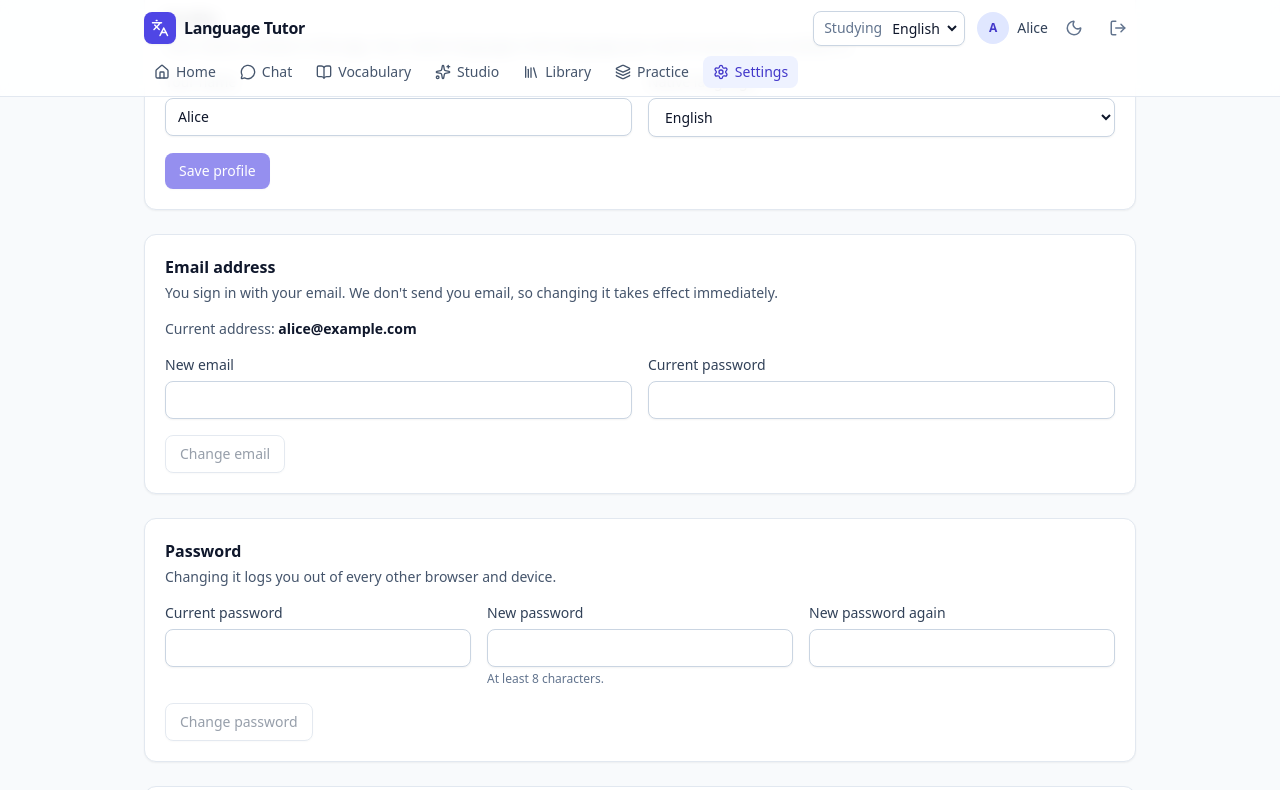
Scenario: settings: profile and email › changes the email and shows the new address
(page scrolled)
Type "new@example.com" into the field labelled "New email".
click(398, 400); type("new@example.com")  # box [165,381,632,419]
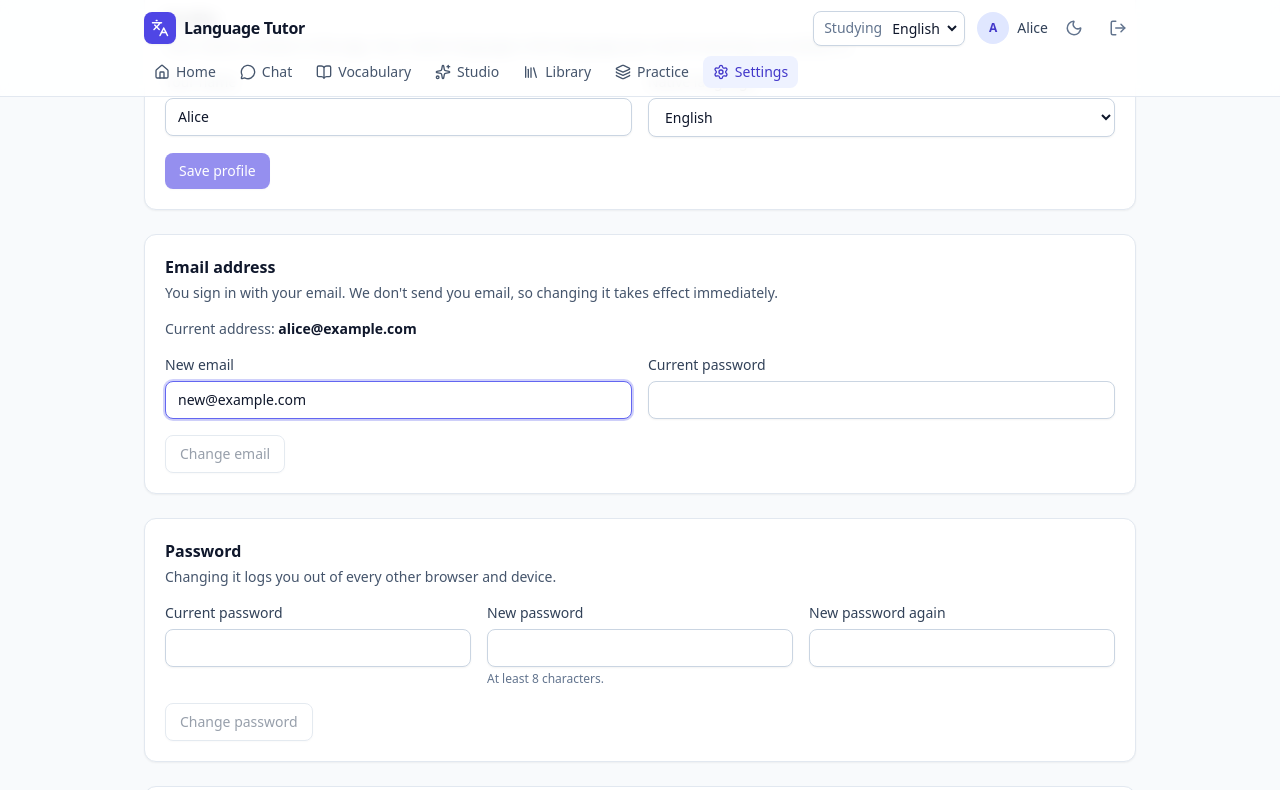
Type "password123" into the 1st password field labelled "Current password".
click(882, 400); type("password123")  # box [648,381,1115,419]
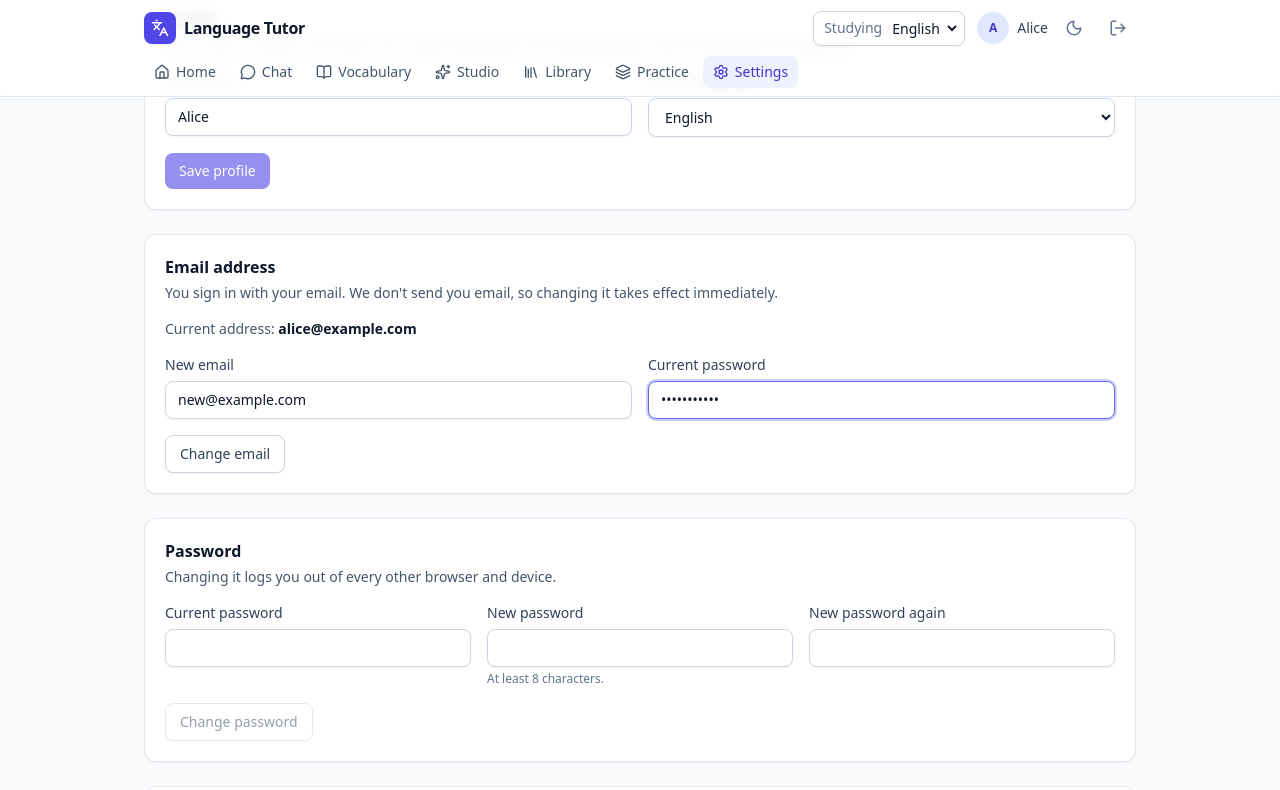
Click the button "Change email".
click(225, 454)  # box [165,435,285,473]
(page scrolled)
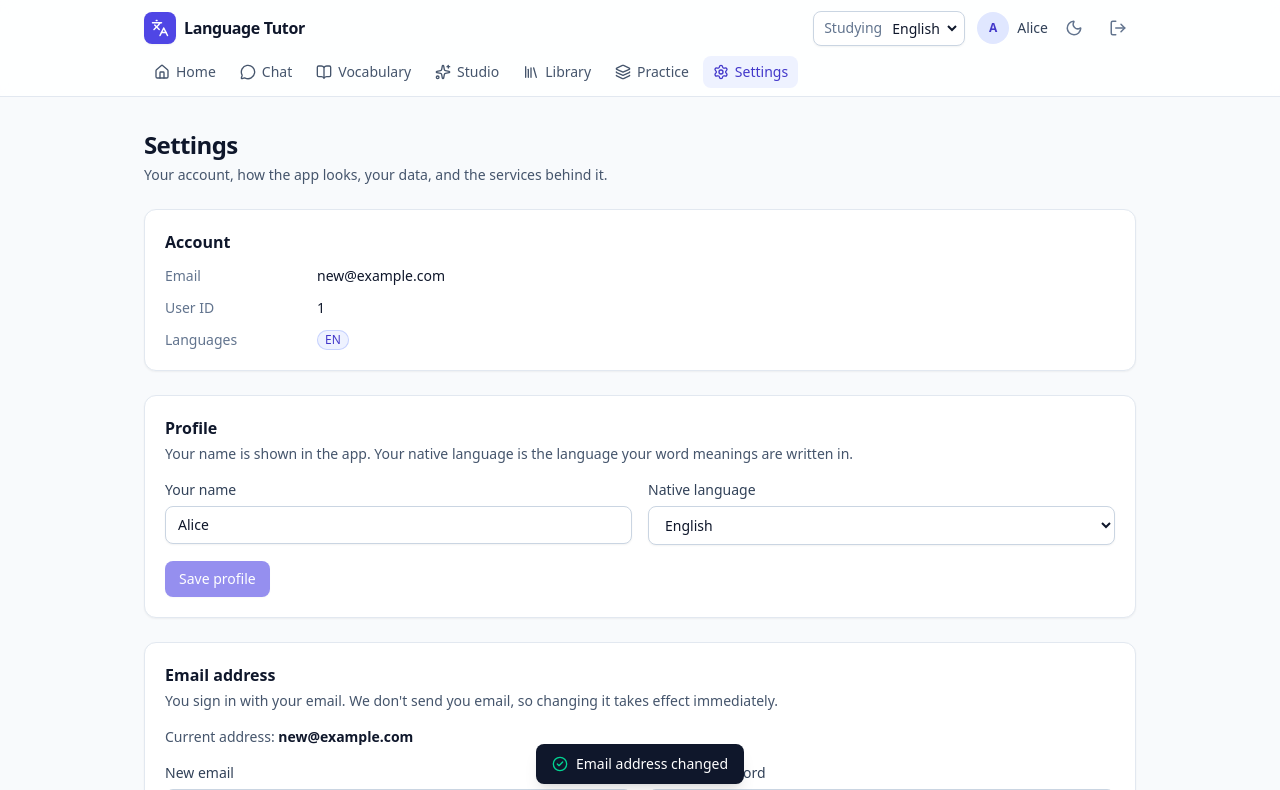
Check: the text "Email address changed" is shown, box [536,744,744,784]
Check: the 1st text "new@example.com" is shown, box [317,266,445,285]
